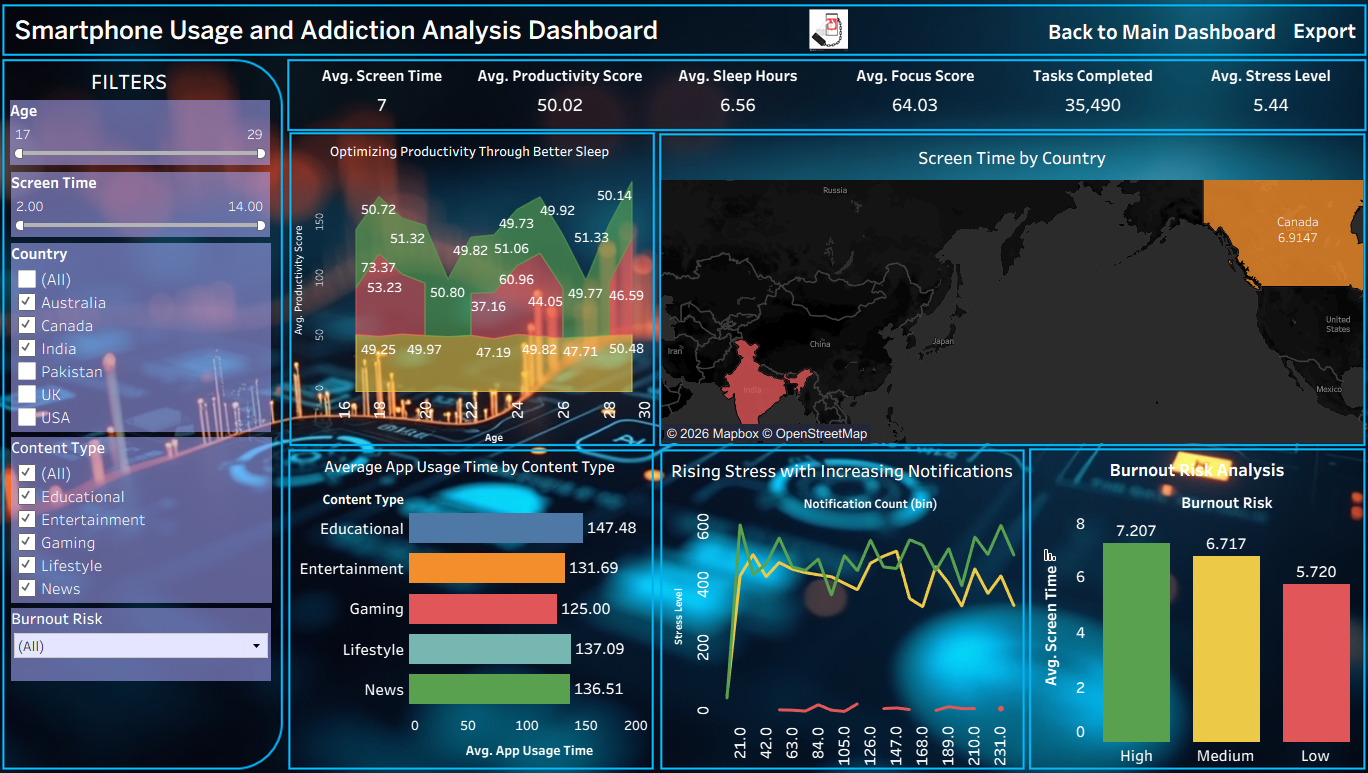

The page's visual inventory and layout, read from the dashboard file:
{"tool":"tableau","page":{"name":"didgital_Addiction_and_productivity_dashboard (2)","canvas":[1400,800],"ordinal":1},"visuals":[{"type":"image","param":"Image/digital_addiction_bg.PNG","box":[8,8,1384,784]},{"type":"image","param":"Image/addiction.png","box":[818,21,52,42]},{"type":"dashboard-object","box":[1053,23,249,40]},{"type":"text","box":[26,27,651,30]},{"type":"worksheet","title":"KPI","mark":"Automatic","box":[308,77,1067,60]},{"type":"text","box":[94,78,100,30]},{"type":"filter","title":"Filters","param":"[federated.1l17ptl0z298e1154kmrq1arx611].[none:Age:qk]","box":[25,112,260,65]},{"type":"worksheet","title":"Optimizing Productivity Through Better Sleep","mark":"Area","rows":["Productivity Score"],"cols":["Age"],"box":[299,150,371,306]},{"type":"worksheet","title":"Screen Time by Country","mark":"Multipolygon","box":[676,153,702,302]},{"type":"filter","title":"Filters","param":"[federated.1l17ptl0z298e1154kmrq1arx611].[none:Screen Time:qk]","box":[26,184,259,65]},{"type":"filter","title":"Filters","param":"[federated.1l17ptl0z298e1154kmrq1arx611].[none:Country:nk]","box":[26,255,260,189]},{"type":"filter","title":"Filters","param":"[federated.1l17ptl0z298e1154kmrq1arx611].[none:Content Type:nk]","box":[26,449,261,166]},{"type":"worksheet","title":"Average App Usage Time by Content Type","mark":"Automatic","rows":["Content Type"],"cols":["App Usage Time"],"box":[304,464,361,314]},{"type":"worksheet","title":"Rising Stress with Increasing Notifications","mark":"Line","rows":["Stress Level"],"cols":["Notification Count (bin)"],"box":[679,466,356,313]},{"type":"worksheet","title":"Burnout Risk Analysis","mark":"Automatic","rows":["Screen Time"],"cols":["Burnout Risk"],"box":[1048,466,328,313]},{"type":"filter","title":"Filters","param":"[federated.1l17ptl0z298e1154kmrq1arx611].[none:Burnout Risk:nk]","box":[26,620,260,73]},{"type":"worksheet","title":"Filters","mark":"Automatic","box":[822,662,60,24]}]}

Visuals, with their boxes in screenshot pixels (x1, y1, x2, y2), scaled from the page's 1400x800 canvas onto the 1368x773 screenshot:
image: BBox(8, 8, 1360, 765)
image: BBox(799, 20, 850, 61)
dashboard-object: BBox(1029, 22, 1272, 61)
text: BBox(25, 26, 662, 55)
"KPI" worksheet: BBox(301, 74, 1344, 132)
text: BBox(92, 75, 190, 104)
"Filters" filter: BBox(24, 108, 278, 171)
"Optimizing Productivity Through Better Sleep" worksheet (Area marks): BBox(292, 145, 655, 441)
"Screen Time by Country" worksheet (Multipolygon marks): BBox(661, 148, 1347, 440)
"Filters" filter: BBox(25, 178, 278, 241)
"Filters" filter: BBox(25, 246, 279, 429)
"Filters" filter: BBox(25, 434, 280, 594)
"Average App Usage Time by Content Type" worksheet: BBox(297, 448, 650, 752)
"Rising Stress with Increasing Notifications" worksheet (Line marks): BBox(663, 450, 1011, 753)
"Burnout Risk Analysis" worksheet: BBox(1024, 450, 1345, 753)
"Filters" filter: BBox(25, 599, 279, 670)
"Filters" worksheet: BBox(803, 640, 862, 663)
